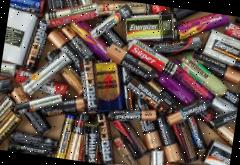electronic: (96, 40, 166, 86)
